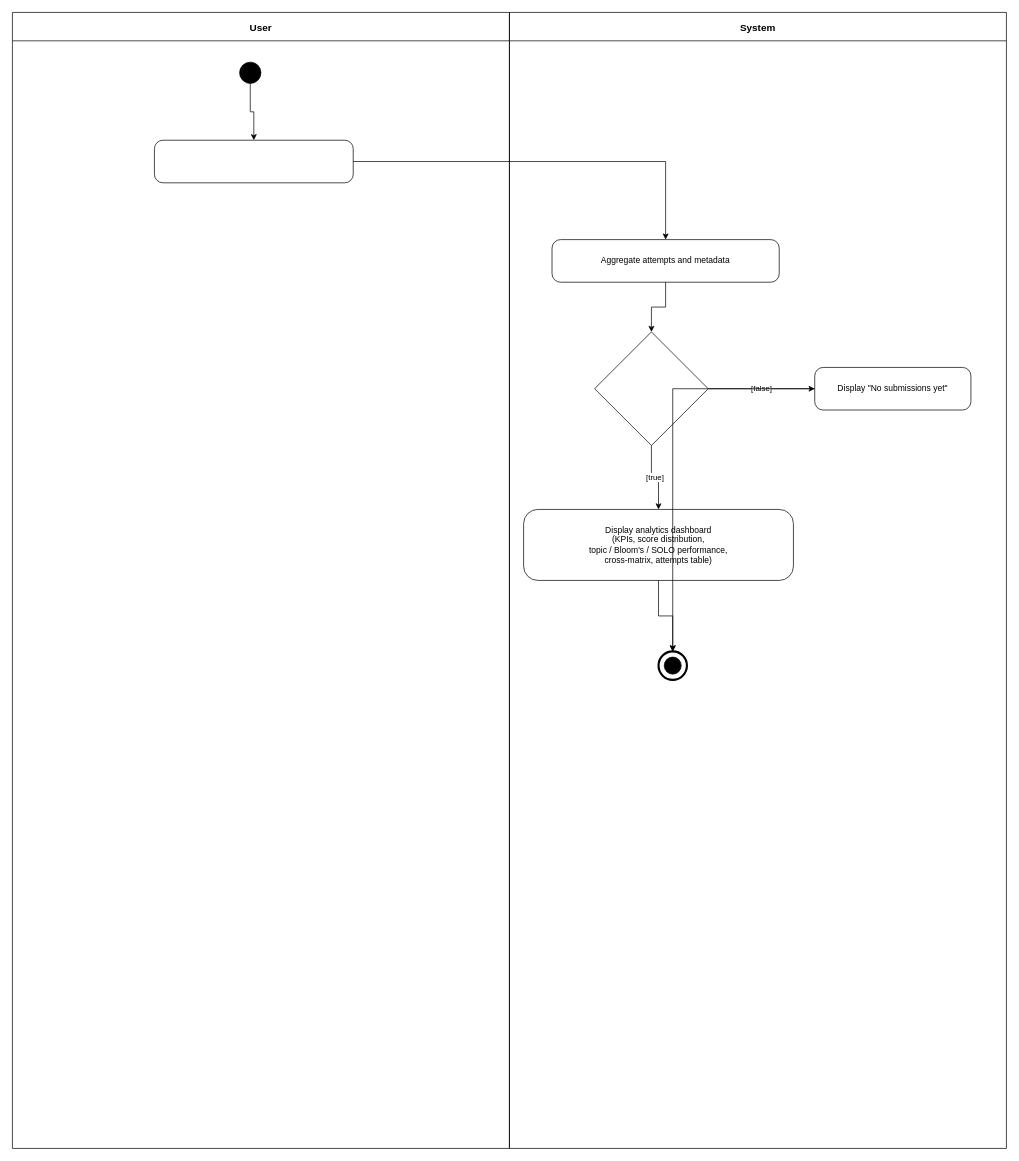
This 1019x1161 diagram has some shape labels left out. Here are the shapes that lost their labels. From the top down, the centre of each, then its label:
[253,161]: Open analytics for a course
[651,388]: Submissions exist?
